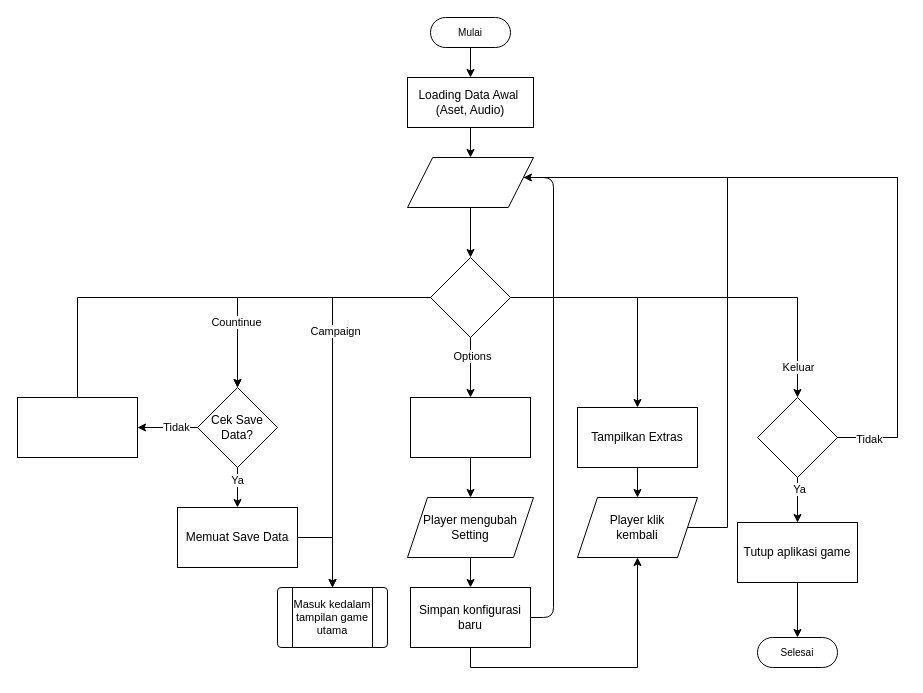
The diagram is 923 pixels wide and 693 high, and some of its shapes have lost their labels. The shapes that lost their labels are listed below. From the top down, each one's centre as x and y in pixels, then its label:
the point at 470,182: Tampilkan Layar Menu Utama
the point at 470,297: Player Memilih Menu?
the point at 77,427: Tampilkan "No, Save Data"
the point at 470,427: Tampilkan Menu Options (Audio, Grafik)
the point at 797,437: Konfirmasi Keluar?
